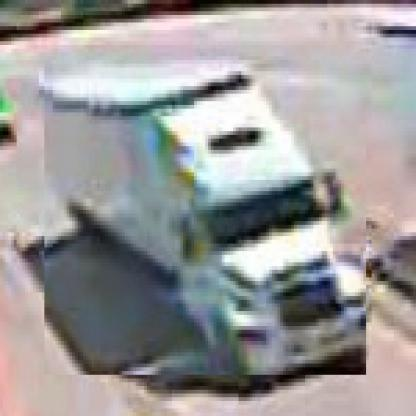container: (45, 61, 370, 379)
